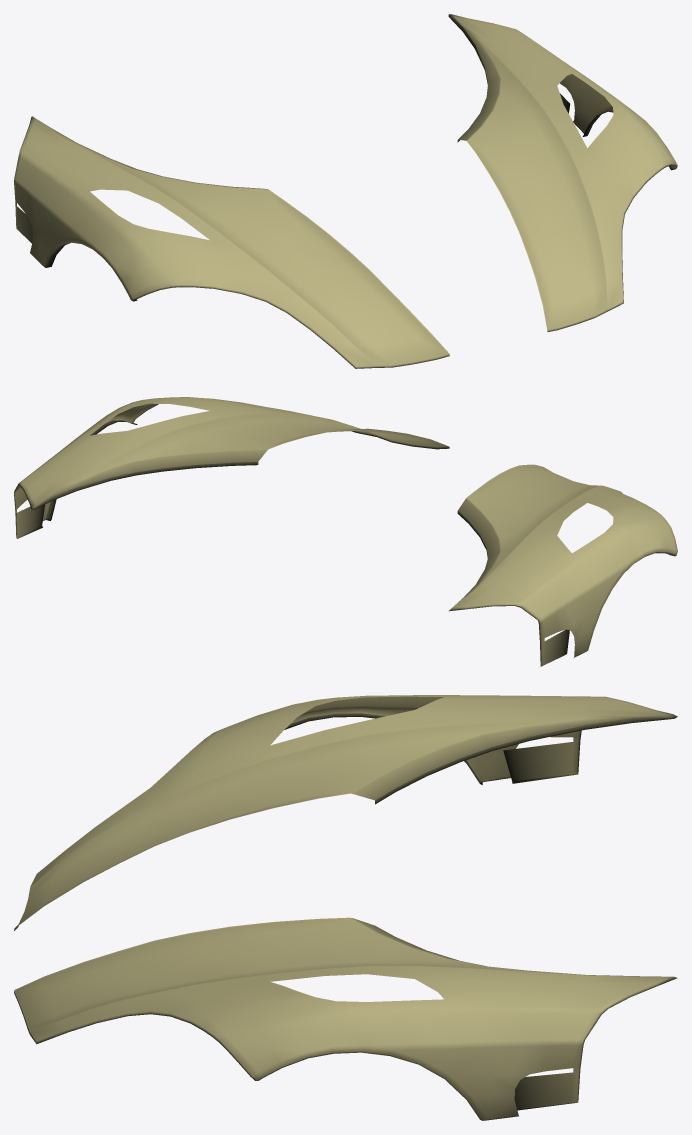
The model's file is Agera_Hood_01_Duco.fbx.
The picture shows the model from 3 angles, top to bottom: view 1: azimuth 30°, elevation 25°; view 2: azimuth 150°, elevation 25°; view 3: azimuth 270°, elevation 25°; orthographic projection. The views are drawn at different scales.
Visible parts, largest first — view 1: Agera_Hood_01_Duco; view 2: Agera_Hood_01_Duco; view 3: Agera_Hood_01_Duco.
Part boxes in pixels (x1,y1,x2,y2): Agera_Hood_01_Duco: (14,14,677,368); Agera_Hood_01_Duco: (14,397,677,666); Agera_Hood_01_Duco: (14,695,677,1120).
Size of the model in its own units: 195 by 32.41 by 160.
